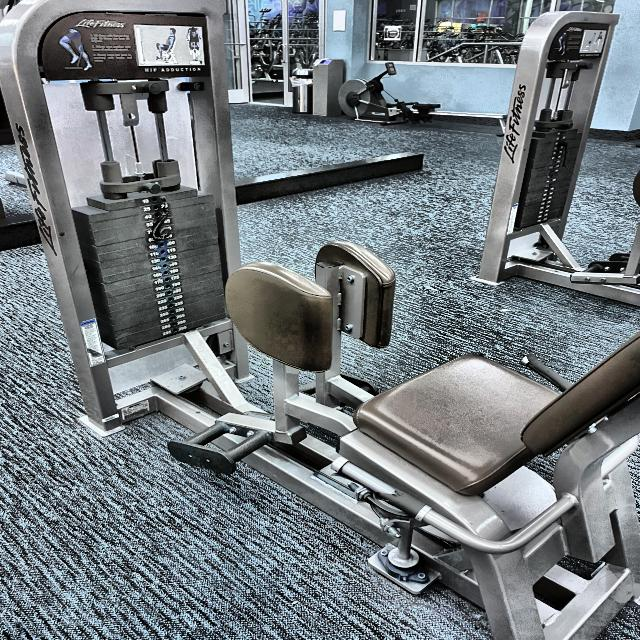hip_adduction_machine: (197, 185, 462, 542), (51, 16, 209, 76), (135, 65, 208, 75)
